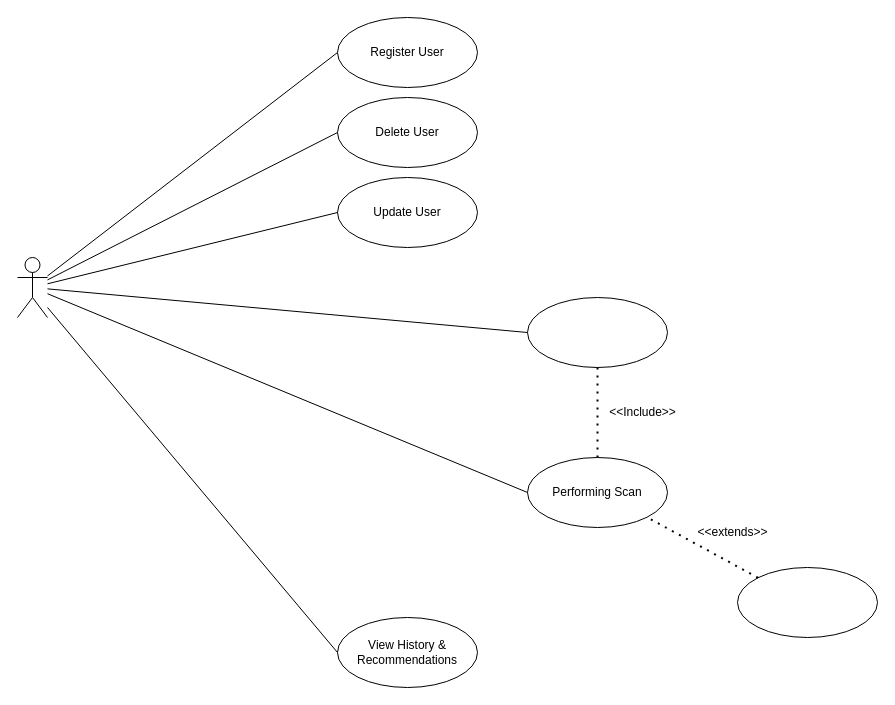
This 895x705 diagram has some shape labels left out. Each missing label, with the centre of its shape:
Out of Battery: [807,602]
Prepare Scan: [597,332]
User: [32,287]
